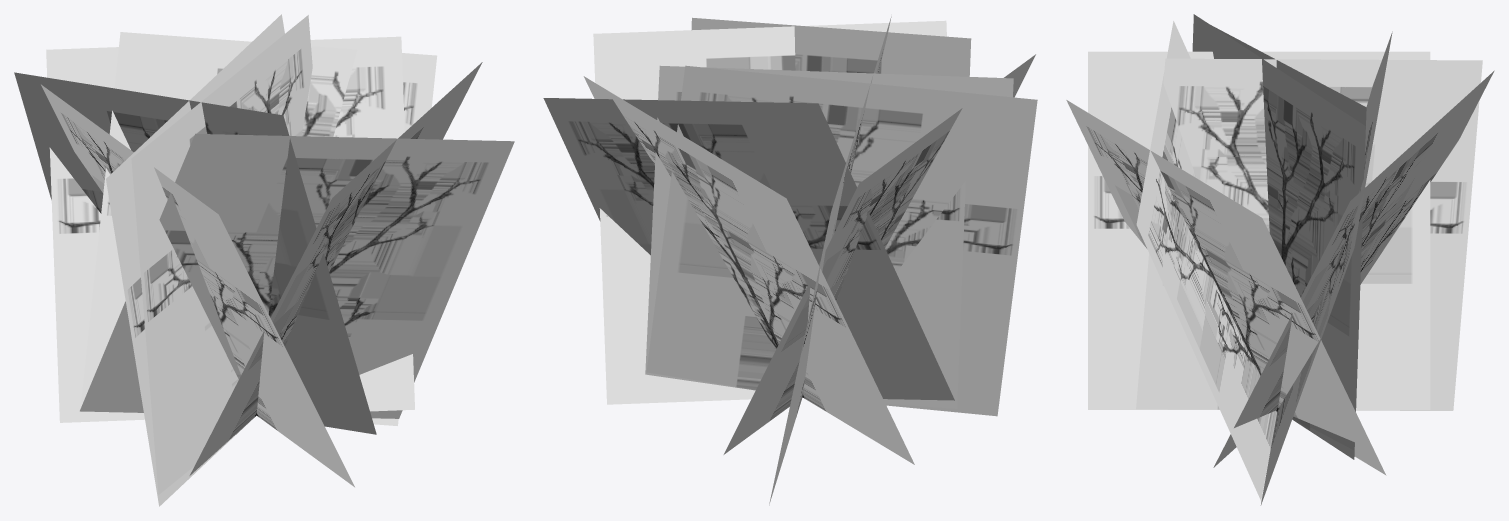
The model's file is winter bush5.FBX.
3 renders of one model, left to right at view 1: azimuth 30°, elevation 25°; view 2: azimuth 150°, elevation 25°; view 3: azimuth 270°, elevation 25°, orthographic. The views are drawn at different scales.
Visible parts, largest first — view 1: winter bush5; view 2: winter bush5; view 3: winter bush5.
Part boxes in pixels (box(x1,y1,x2,y2)): winter bush5: box(14, 14, 514, 506); winter bush5: box(543, 16, 1037, 505); winter bush5: box(1066, 14, 1494, 505).
Bounding box in the file's own units: 18.25 × 16.61 × 17.05.
